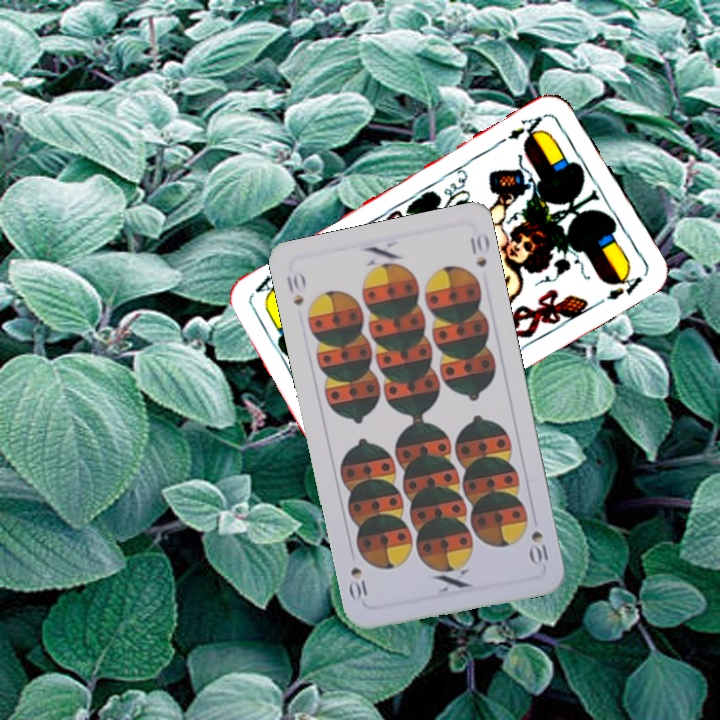EA: (495, 110, 548, 147)
S10: (282, 268, 308, 310), (526, 527, 552, 568)
